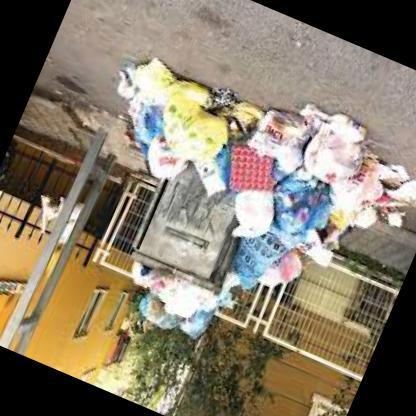Garbage: (100, 28, 415, 276), (226, 97, 415, 350), (105, 256, 229, 353), (155, 98, 250, 181), (262, 169, 339, 253), (242, 98, 324, 176), (300, 109, 376, 189), (364, 149, 415, 241), (121, 92, 176, 147), (150, 274, 214, 320), (256, 249, 311, 302), (126, 294, 185, 338), (370, 186, 415, 239)
